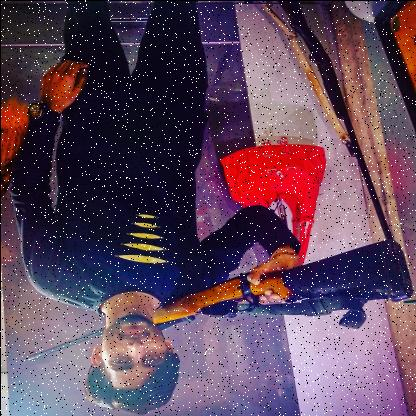rifle: (23, 235, 416, 362)
